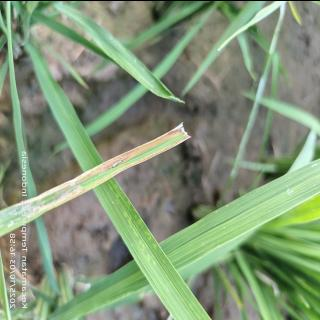Blast: (110, 158, 126, 170)
Hawar-Daun: (0, 122, 191, 235)
